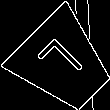L_SE: (35, 35, 92, 92)
